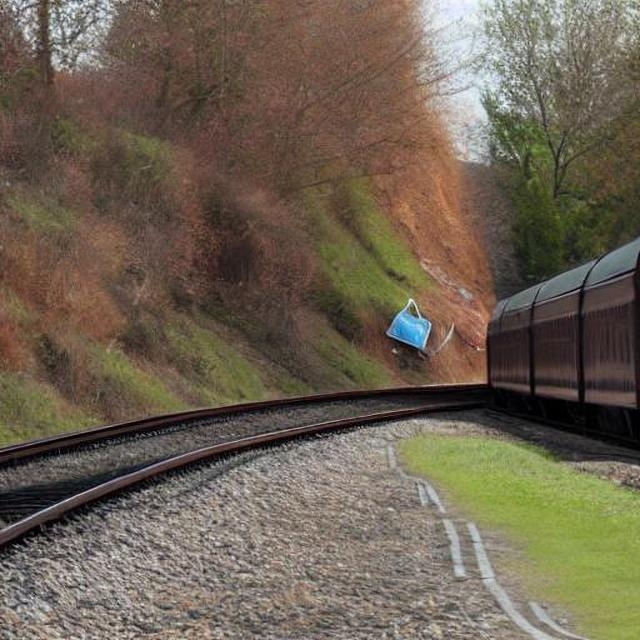plastic bag: (379, 292, 437, 352)
